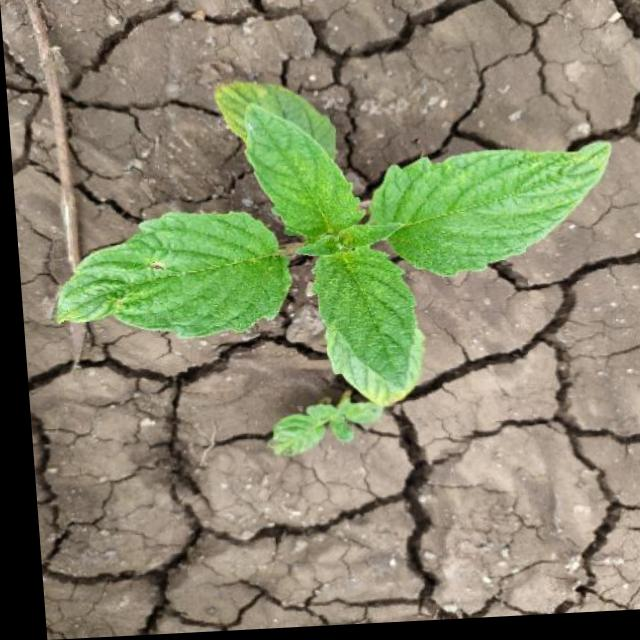crop: (32, 56, 632, 429)
